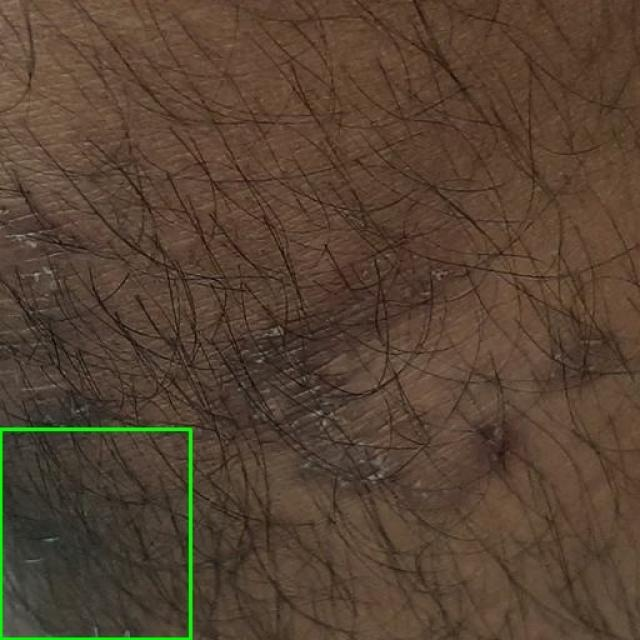Tinea Corporis: (0, 429, 190, 639)
